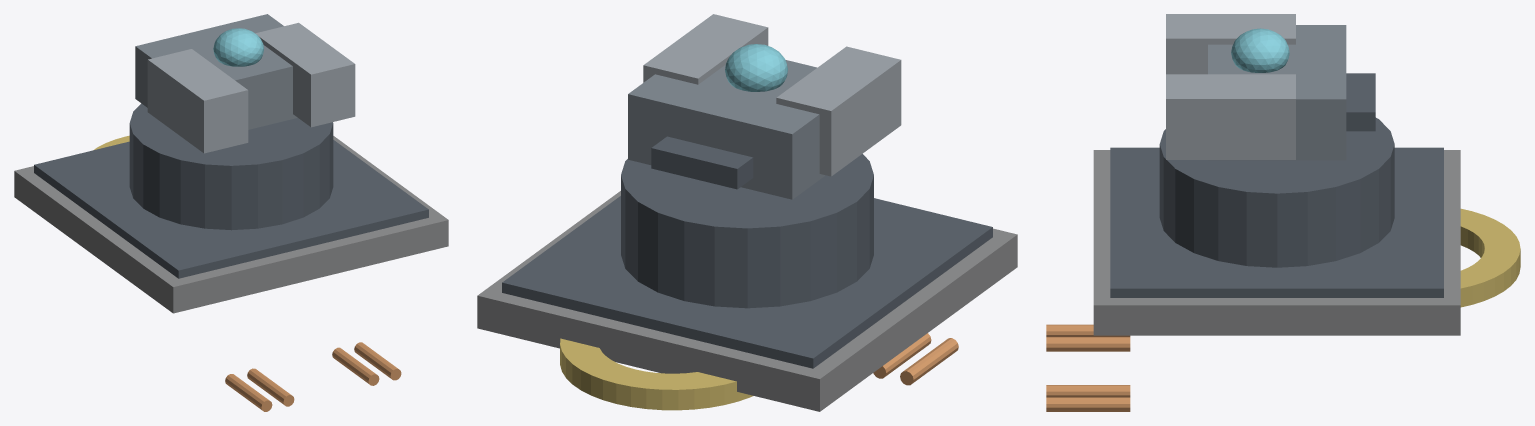
Rendered from human_anti_air_turret.glb.
3 renders of one model, left to right at view 1: azimuth 30°, elevation 25°; view 2: azimuth 150°, elevation 25°; view 3: azimuth 270°, elevation 25°, orthographic. The views are drawn at different scales.
Visible parts, largest first — view 1: foundation_top, reinforced_base, foundation, missile_pod_-1, aa_turret_head, missile_pod_1, aa_sensor, missile_1_-0.07_0.07, missile_-1_0.07_0.07, missile_1_0.07_0.07; view 2: reinforced_base, foundation_top, foundation, aa_turret_head, missile_pod_-1, aa_tracking_ring, missile_pod_1, aa_rear_module, aa_sensor, missile_-1_-0.07_-0.07; view 3: foundation_top, reinforced_base, foundation, missile_pod_1, aa_turret_head, missile_pod_-1, aa_tracking_ring, aa_sensor, aa_rear_module, missile_-1_0.07_-0.07, missile_1_0.07_-0.07, missile_1_-0.07_-0.07 (+4 smaller).
Part boxes in pixels (<box>): foundation_top: <box>34,140,428,278</box>; reinforced_base: <box>129,103,333,230</box>; foundation: <box>14,136,448,313</box>; missile_pod_-1: <box>147,49,248,153</box>; aa_turret_head: <box>135,14,297,129</box>; missile_pod_1: <box>255,22,355,127</box>; aa_sensor: <box>213,28,263,66</box>; missile_1_-0.07_0.07: <box>345,357,379,385</box>; missile_-1_0.07_0.07: <box>260,379,294,406</box>; missile_1_0.07_0.07: <box>367,353,401,380</box>; reinforced_base: <box>621,154,873,308</box>; foundation_top: <box>502,196,992,368</box>; foundation: <box>477,191,1017,411</box>; aa_turret_head: <box>628,60,825,199</box>; missile_pod_-1: <box>776,46,901,176</box>; aa_tracking_ring: <box>560,338,753,410</box>; missile_pod_1: <box>643,14,768,84</box>; aa_rear_module: <box>651,136,753,189</box>; aa_sensor: <box>725,44,787,91</box>; missile_-1_-0.07_-0.07: <box>900,349,942,385</box>; foundation_top: <box>1110,147,1443,297</box>; reinforced_base: <box>1159,117,1394,267</box>; foundation: <box>1093,150,1460,335</box>; missile_pod_1: <box>1166,74,1295,159</box>; aa_turret_head: <box>1208,25,1346,160</box>; missile_pod_-1: <box>1166,14,1295,74</box>; aa_tracking_ring: <box>1460,208,1520,307</box>; aa_sensor: <box>1231,28,1289,72</box>; aa_rear_module: <box>1346,73,1375,131</box>; missile_-1_0.07_-0.07: <box>1075,337,1130,351</box>; missile_1_0.07_-0.07: <box>1075,397,1130,411</box>; missile_1_-0.07_-0.07: <box>1075,385,1130,397</box>.
Size of the model in its own units: 1.75 by 1.81 by 2.26.
